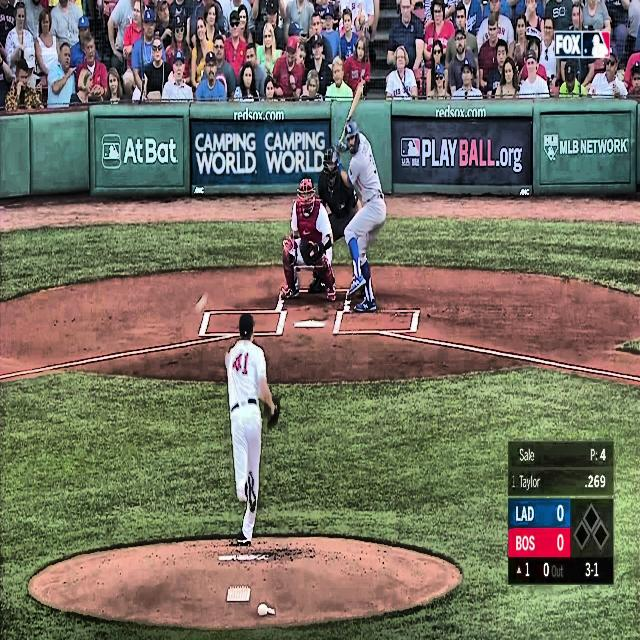baseball: (195, 294, 208, 312)
